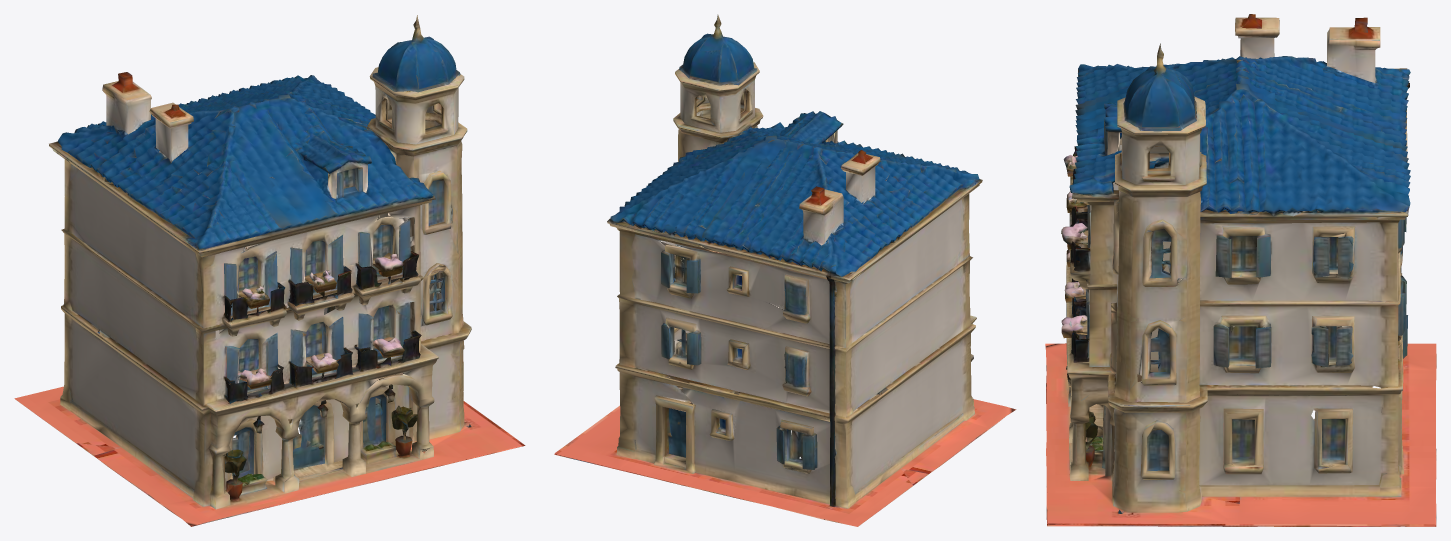
3 renders of one model, left to right at view 1: azimuth 30°, elevation 25°; view 2: azimuth 150°, elevation 25°; view 3: azimuth 270°, elevation 25°, orthographic. The views are drawn at different scales.
Visible parts, largest first — view 1: harbor__hotel_3__native_mobile; view 2: harbor__hotel_3__native_mobile; view 3: harbor__hotel_3__native_mobile.
Boxes of the visible parts, <box> form: harbor__hotel_3__native_mobile: <box>14,15,525,526</box>; harbor__hotel_3__native_mobile: <box>554,14,1016,526</box>; harbor__hotel_3__native_mobile: <box>1045,14,1436,526</box>.
Size of the model in its own units: 0.8589 by 1 by 0.782.
Materials: 1 (1 with a texture image).
